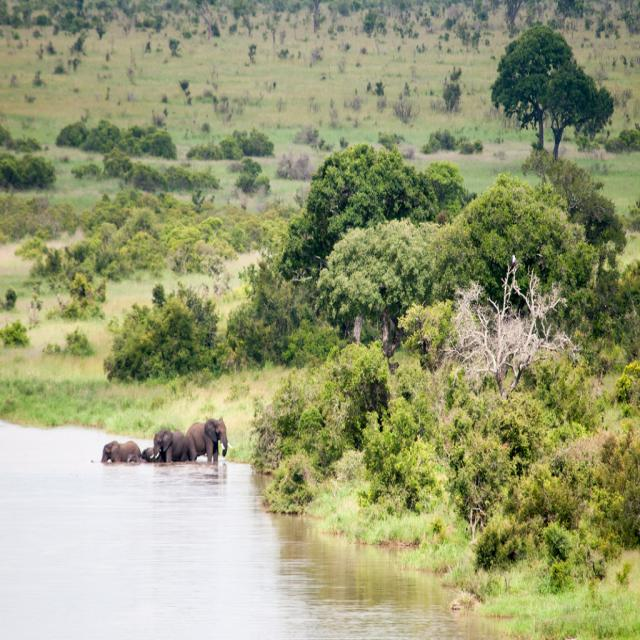elephant: (88, 422, 180, 483), (183, 416, 228, 464)
